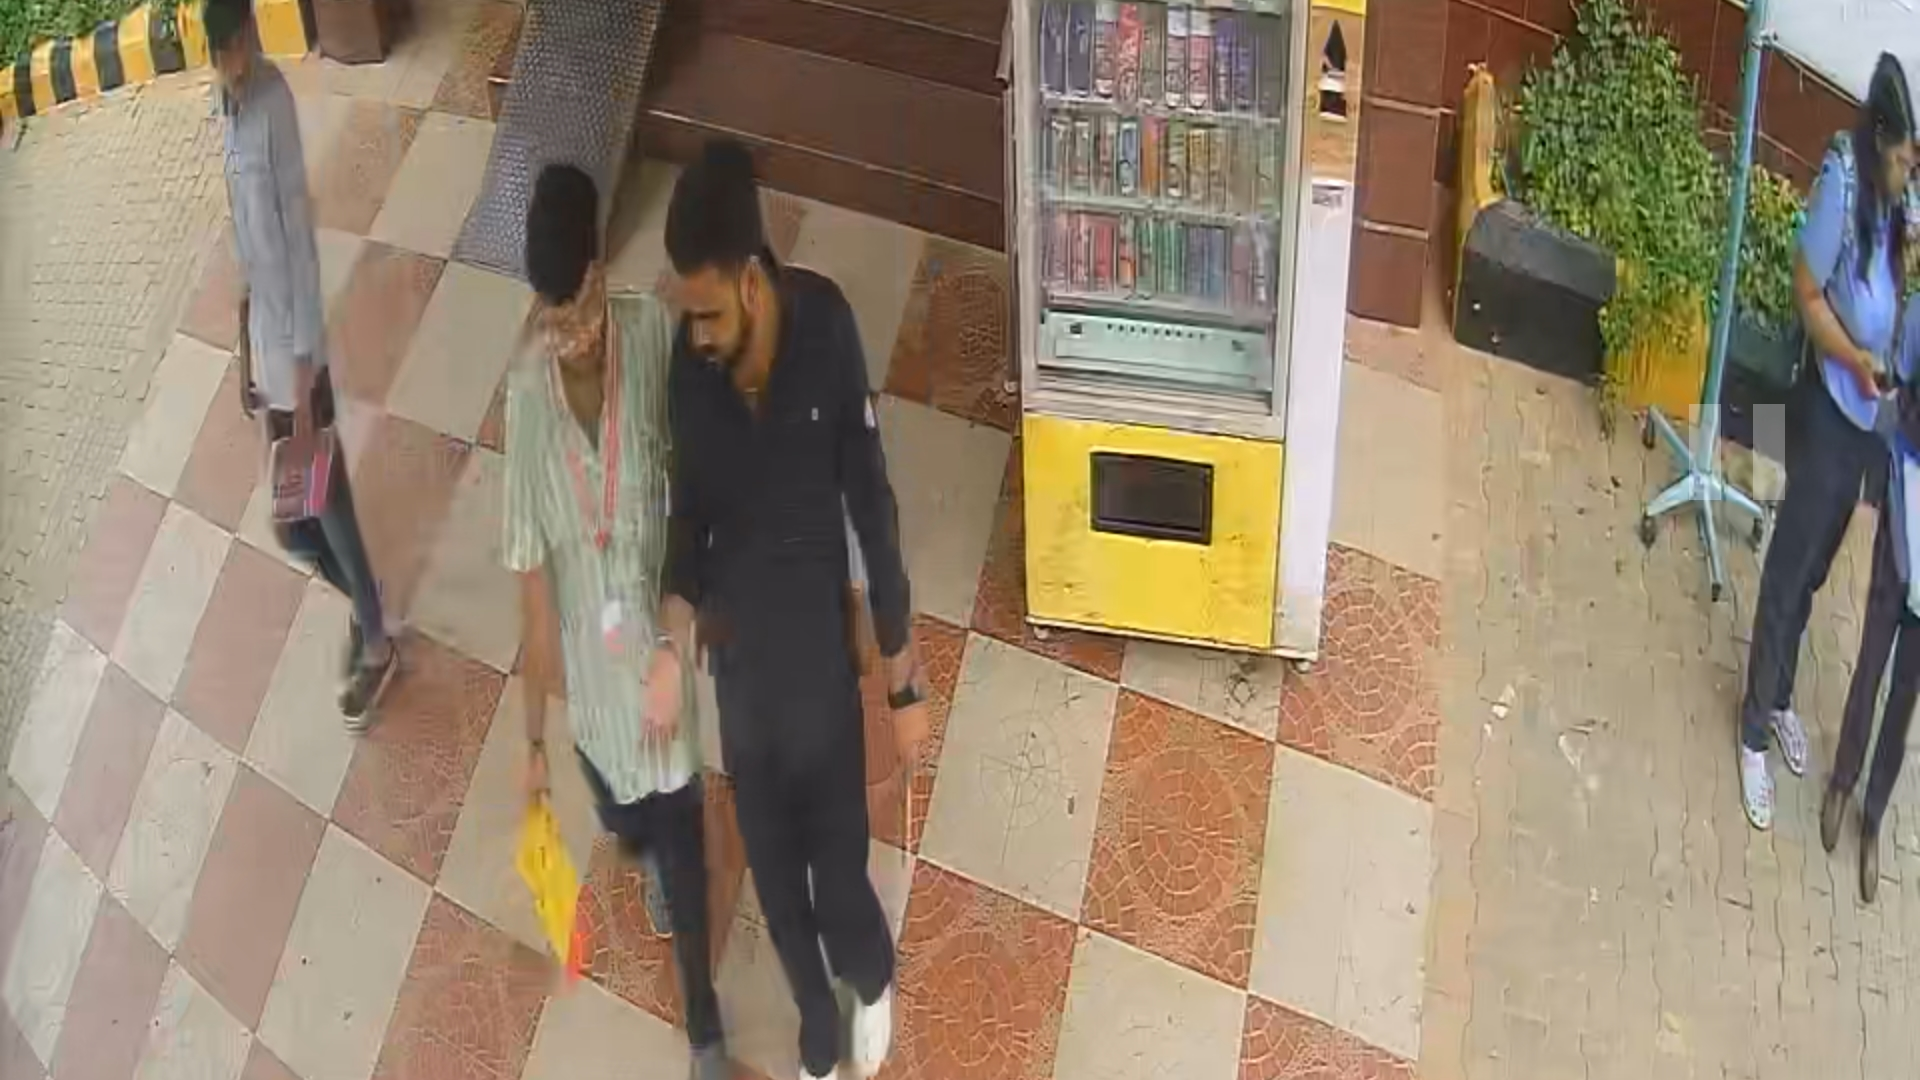intruder: (675, 69, 922, 1080), (181, 1, 407, 728)
not intruder: (501, 166, 711, 1056)
